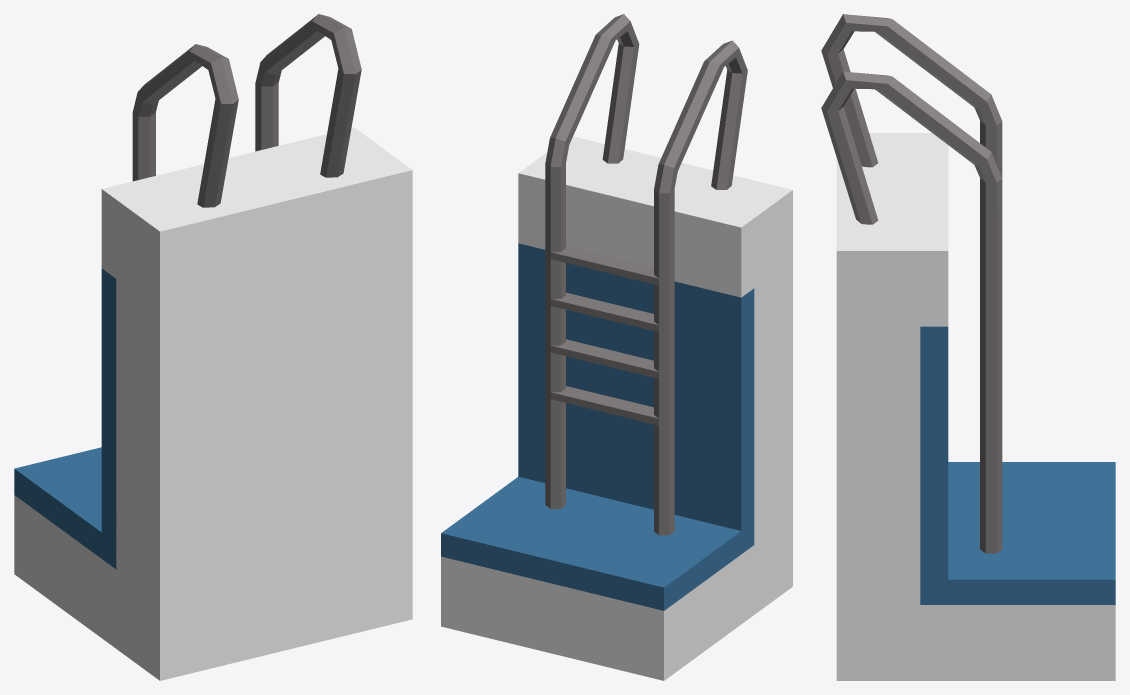
The model's file is buildings_pool-part-edge-stairs-1x1m.fbx.
3 views of the same model, side by side, from view 1: azimuth 30°, elevation 25°; view 2: azimuth 150°, elevation 25°; view 3: azimuth 270°, elevation 25° (orthographic). The views are drawn at different scales.
Visible parts, largest first — view 1: buildings_pool_part_edge_stairs_1x1m; view 2: buildings_pool_part_edge_stairs_1x1m; view 3: buildings_pool_part_edge_stairs_1x1m.
Boxes of the visible parts, left/top/right/bottom form: buildings_pool_part_edge_stairs_1x1m: left=14, top=14, right=412, bottom=680; buildings_pool_part_edge_stairs_1x1m: left=441, top=14, right=792, bottom=680; buildings_pool_part_edge_stairs_1x1m: left=821, top=14, right=1115, bottom=680.
Bounding box in the file's own units: 87.34 × 200 × 92.15.
